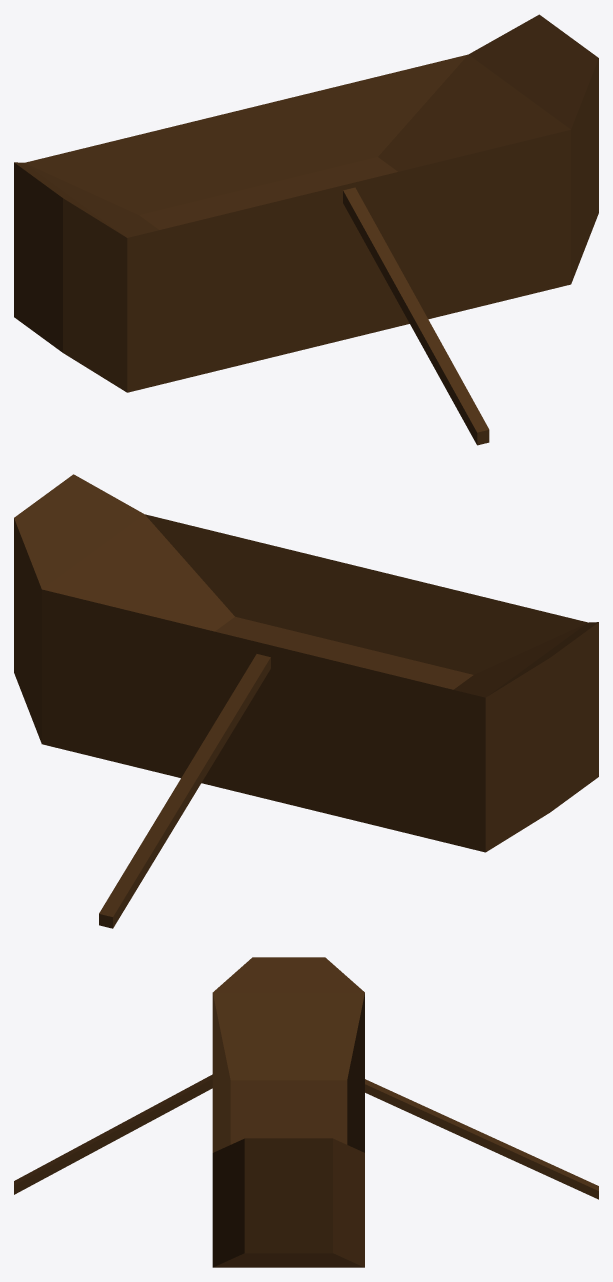
File: robat.glb
3 views of the same model, one above another, from view 1: azimuth 30°, elevation 25°; view 2: azimuth 150°, elevation 25°; view 3: azimuth 270°, elevation 25° (orthographic). The views are drawn at different scales.
Parts seen in each view (by area): view 1: Cube; view 2: Cube; view 3: Cube.
Boxes of the visible parts, bbox=[...] form: Cube: bbox=[14, 14, 598, 445]; Cube: bbox=[14, 474, 598, 928]; Cube: bbox=[14, 957, 598, 1267].
Size of the model in its own units: 7.17 by 2.73 by 9.24.
